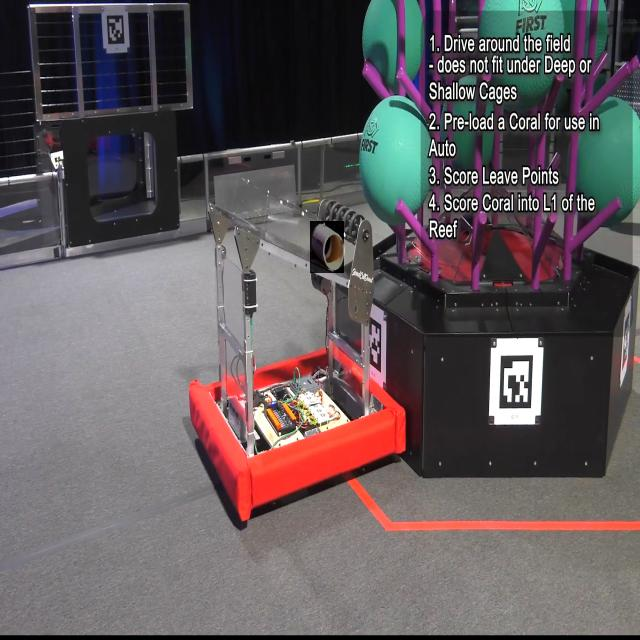Coral: (310, 221, 344, 273)
